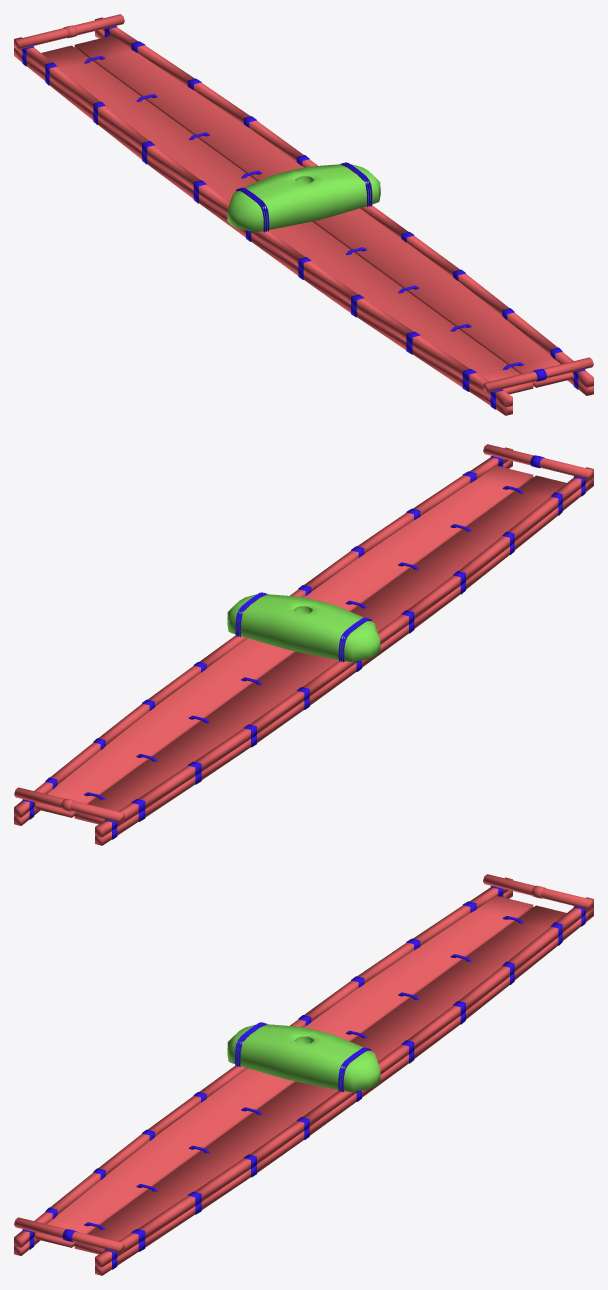
The model's file is SM_Tipairua_SailSupport.fbx.
3 views of the same model, one above another, from view 1: azimuth 30°, elevation 25°; view 2: azimuth 150°, elevation 25°; view 3: azimuth 330°, elevation 25° (orthographic).
Visible parts, largest first — view 1: SM_TIpairua_Desk_ForSail, SM_TIpairua_Sails_Base; view 2: SM_TIpairua_Desk_ForSail, SM_TIpairua_Sails_Base; view 3: SM_TIpairua_Desk_ForSail, SM_TIpairua_Sails_Base.
Part boxes in pixels (<box>): SM_TIpairua_Desk_ForSail: <box>14,14,593,415</box>; SM_TIpairua_Sails_Base: <box>227,162,380,232</box>; SM_TIpairua_Desk_ForSail: <box>14,444,593,845</box>; SM_TIpairua_Sails_Base: <box>227,592,380,662</box>; SM_TIpairua_Desk_ForSail: <box>14,874,593,1275</box>; SM_TIpairua_Sails_Base: <box>227,1022,380,1092</box>.
Bounding box in the file's own units: 940 × 161 × 50.52.
